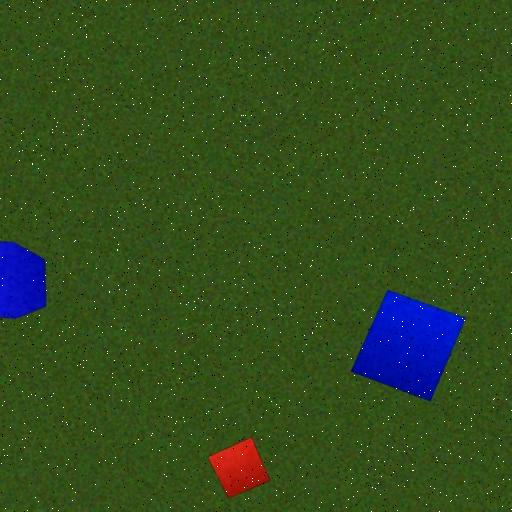BLUE_SQUARE: (350, 290, 466, 402)
RED_SQUARE: (207, 436, 271, 498)
